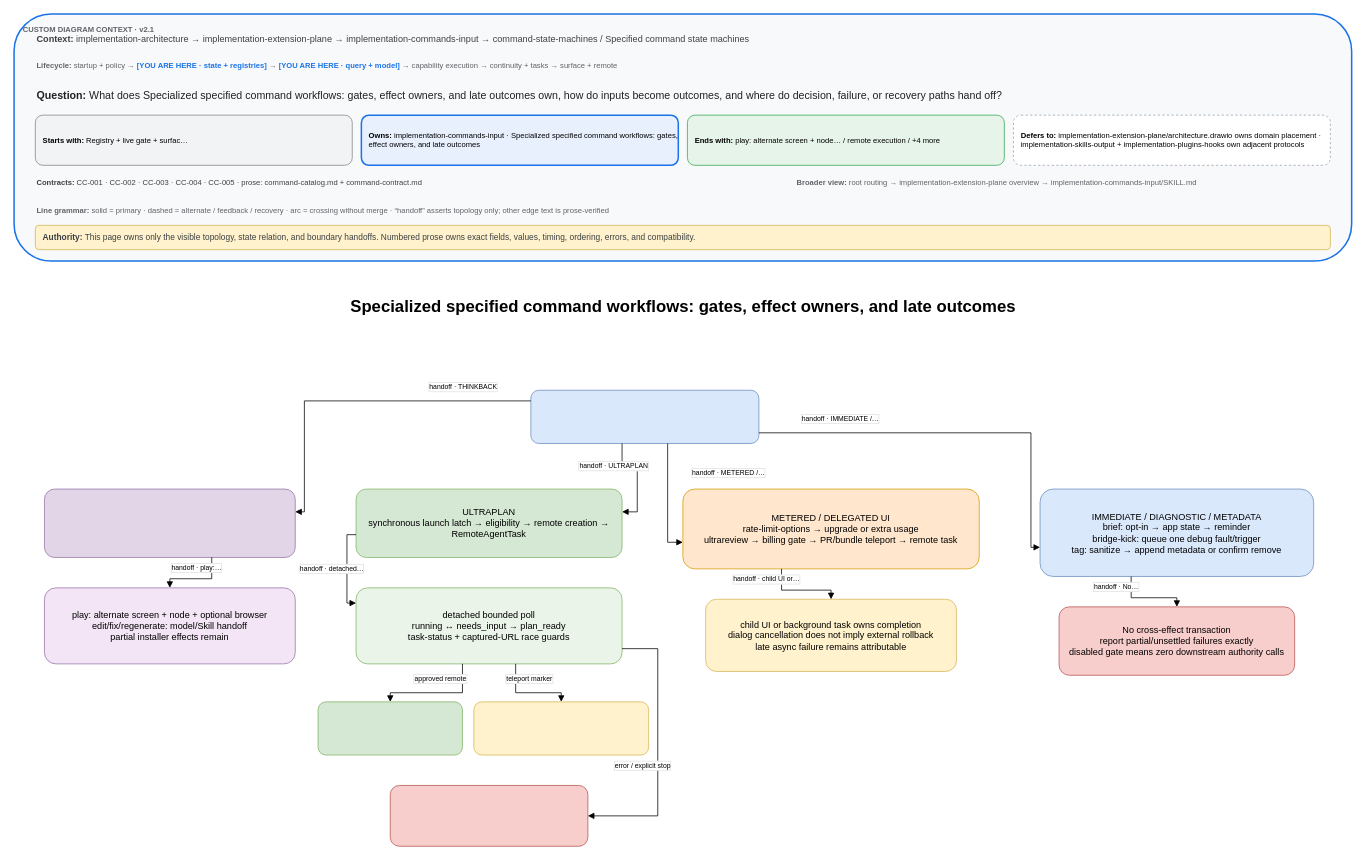
Some shapes in this 1365 by 860 pixel diagram are drawn without their labels. The shapes that lost their labels are listed below. From the top down, each one's centre as x and y in pixels, then its label:
point (644, 416): Registry + live gate + surface filter canonical command dispatch
point (169, 522): THINKBACK marketplace add/refresh → plugin install/enable → skill path → menu
point (389, 728): remote execution complete local task; no archive
point (561, 728): local disposition choice dialog owns archive + completion
point (489, 815): stop/failure kill or fail task; best-effort archive; matching URL clear
